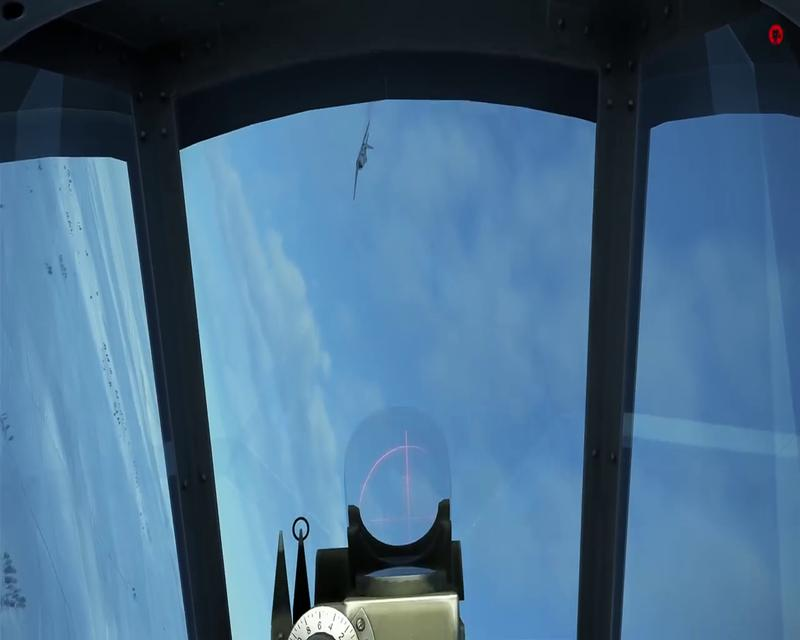UAV: (352, 118, 374, 202)
